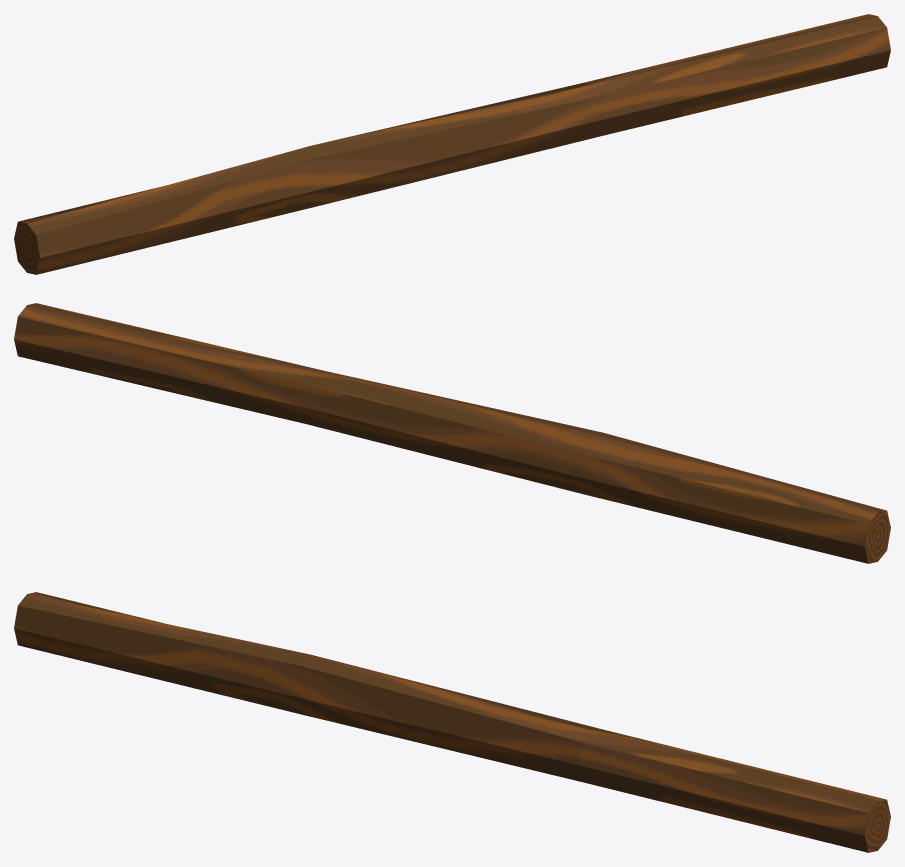
The model's file is StickStraight-1.glb.
3 renders of one model, top to bottom at view 1: azimuth 30°, elevation 25°; view 2: azimuth 150°, elevation 25°; view 3: azimuth 330°, elevation 25°, orthographic.
Parts seen in each view (by area): view 1: StickStraight-1; view 2: StickStraight-1; view 3: StickStraight-1.
Part boxes in pixels (bbox=[...]): StickStraight-1: bbox=[14, 14, 890, 274]; StickStraight-1: bbox=[14, 303, 890, 563]; StickStraight-1: bbox=[14, 592, 890, 852].
Size of the model in its own units: 2 by 0.13 by 0.11.
1 material, 1 textured.
